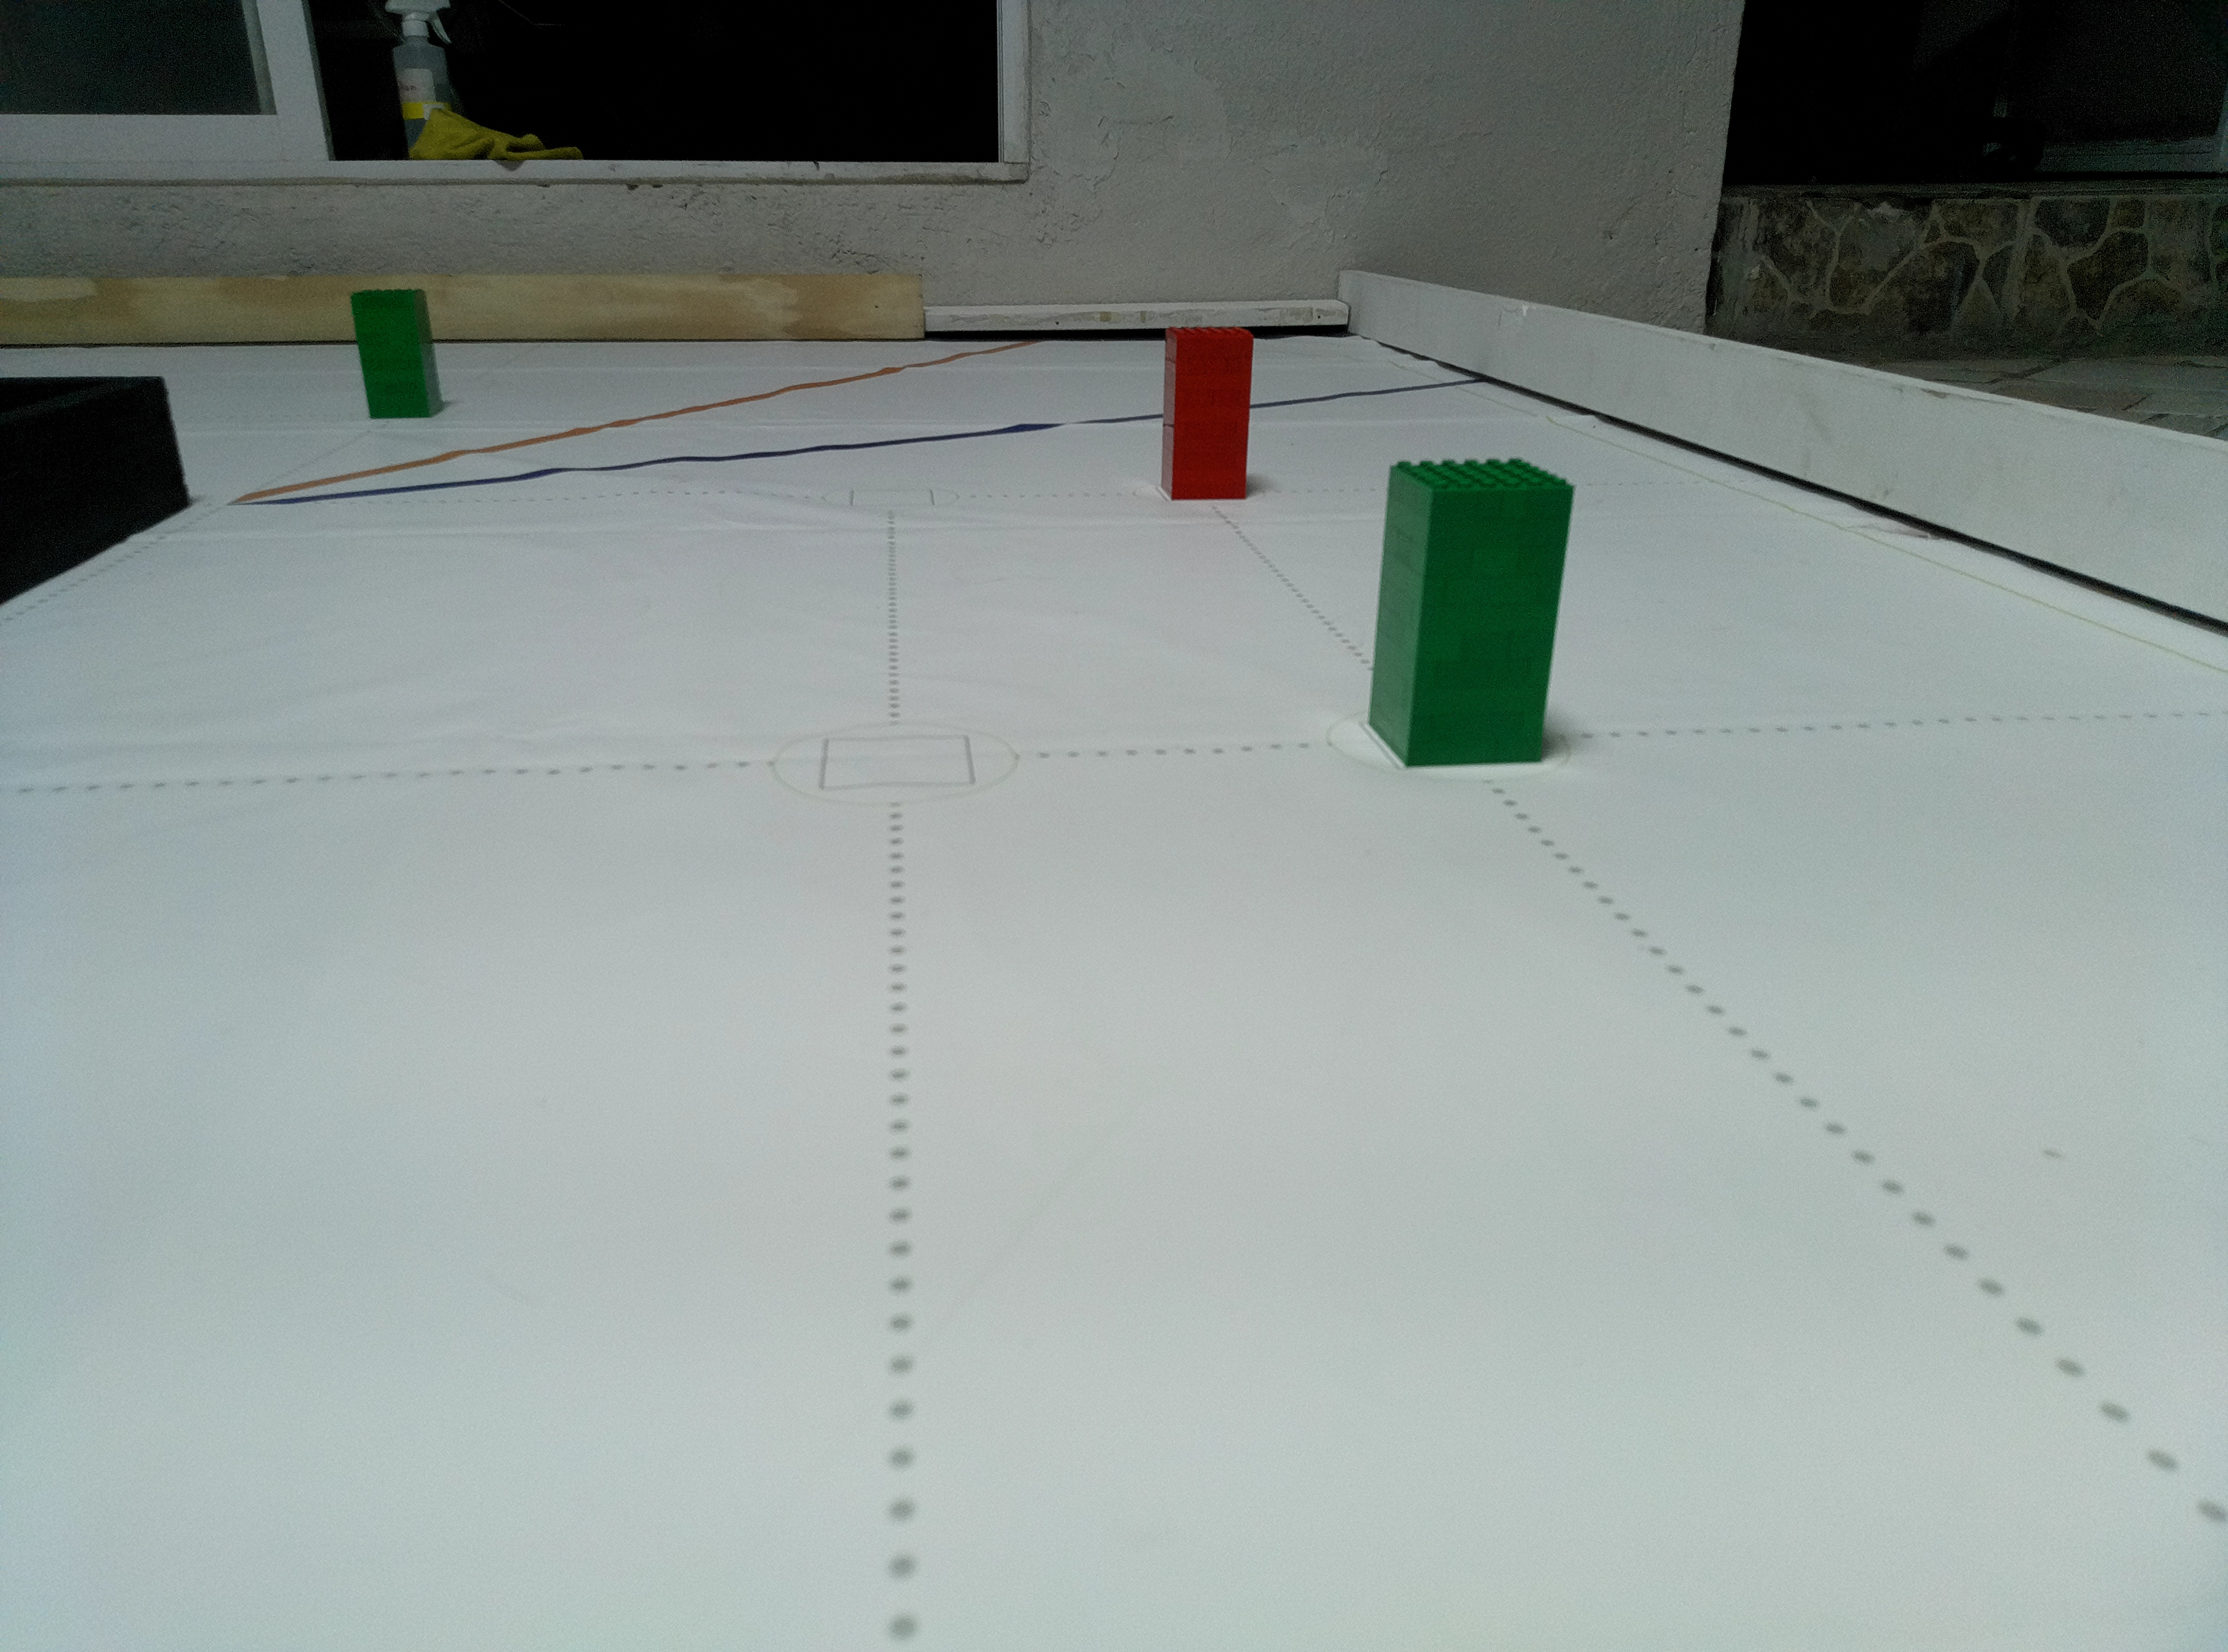greenbox: (1366, 456, 1576, 774), (345, 288, 448, 418), (1366, 613, 1367, 614)
redbox: (1156, 323, 1256, 503)
